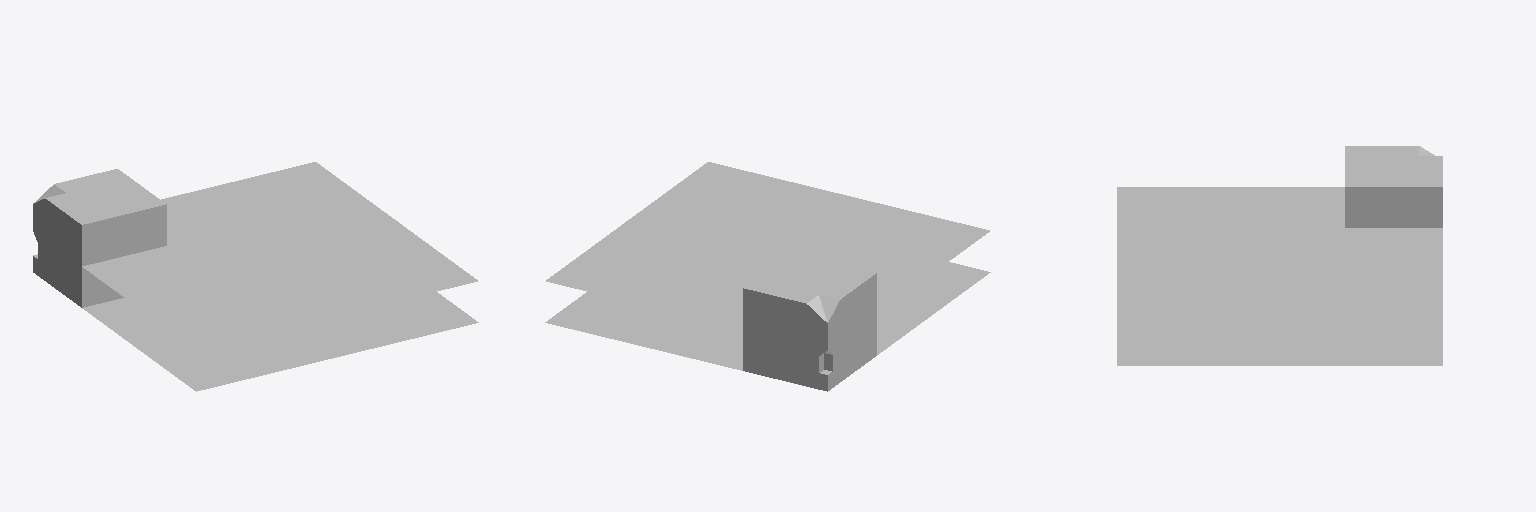
Rendered from fountain-corner-inner-square.obj.
3 renders of one model, left to right at view 1: azimuth 30°, elevation 25°; view 2: azimuth 150°, elevation 25°; view 3: azimuth 270°, elevation 25°, orthographic.
Parts seen in each view (by area): view 1: (%ignore), fountain-corner-inner-square; view 2: (%ignore), fountain-corner-inner-square; view 3: (%ignore), fountain-corner-inner-square.
Boxes of the visible parts, x1,y1,x2,y2 form: (%ignore): [82, 162, 477, 349]; fountain-corner-inner-square: [33, 169, 478, 391]; (%ignore): [546, 162, 989, 329]; fountain-corner-inner-square: [545, 252, 990, 391]; (%ignore): [1117, 187, 1442, 324]; fountain-corner-inner-square: [1117, 146, 1442, 365].
Bounding box in the file's own units: 1 × 0.28 × 1.